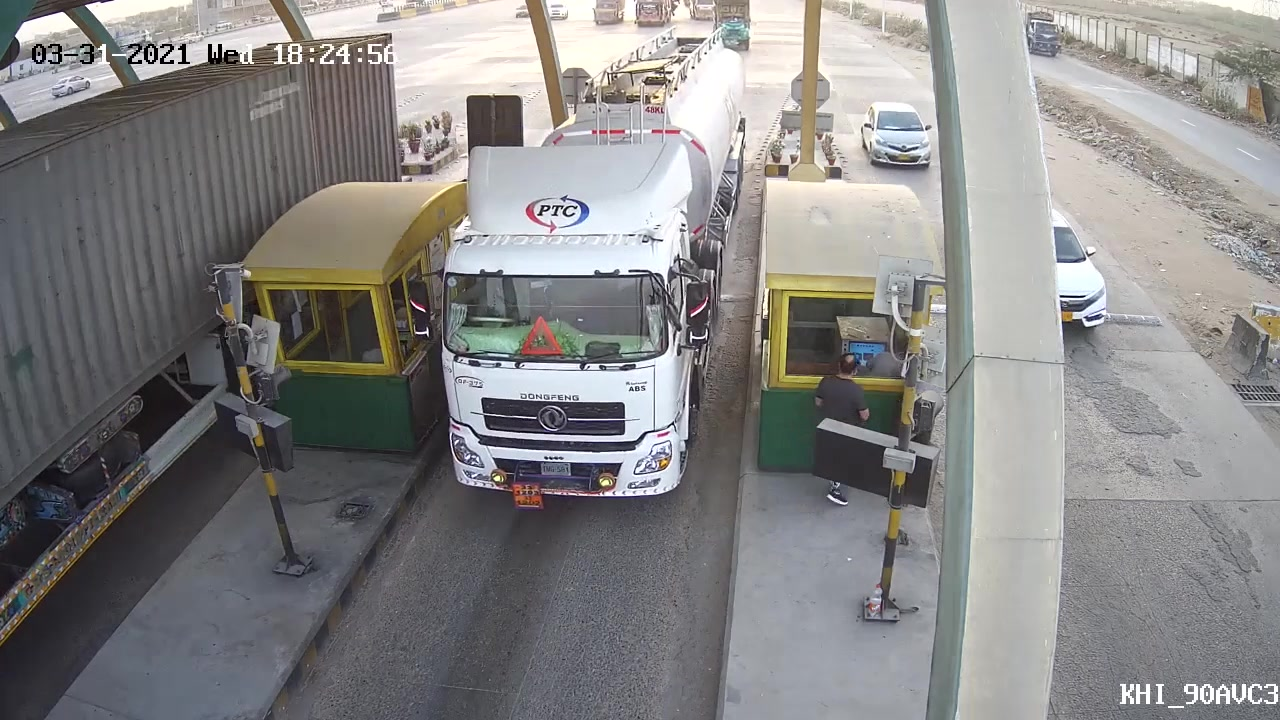F6: (403, 60, 745, 515)
